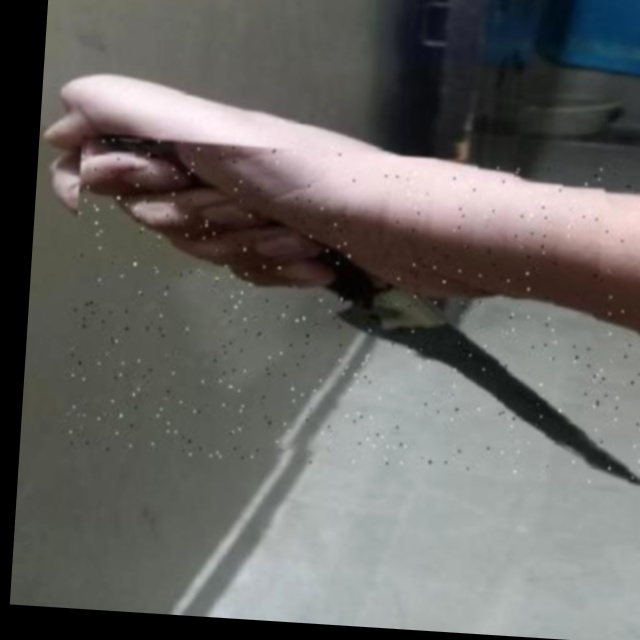Sharp-Object: (62, 136, 640, 486)
